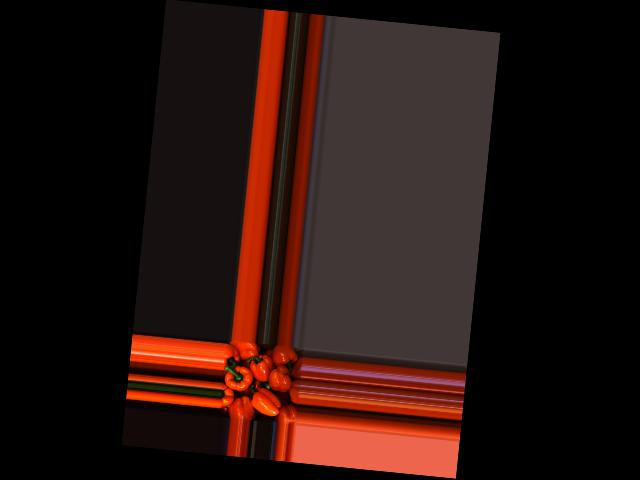bell_pepper: (284, 353, 303, 385)
